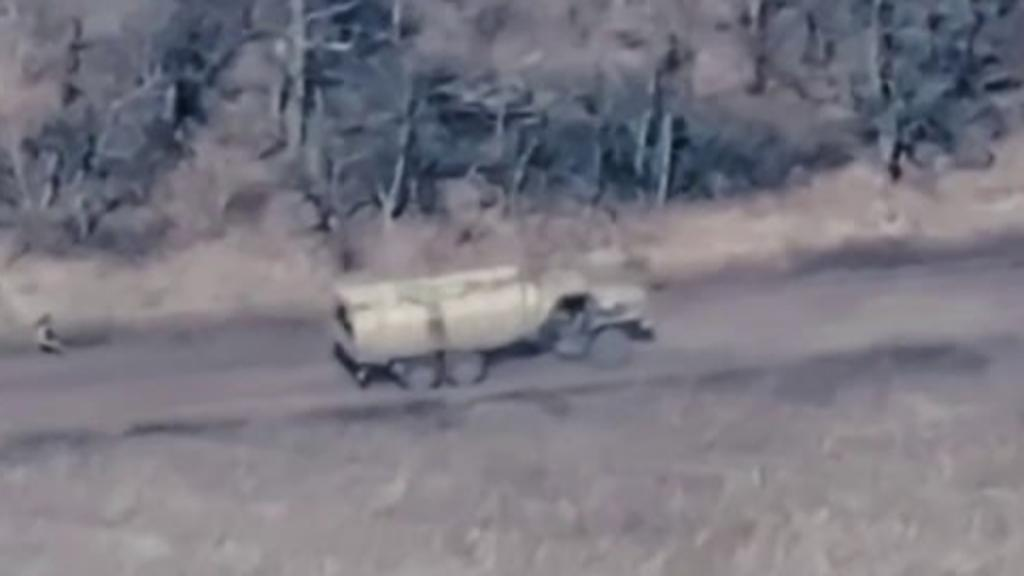TRUCK: (328, 255, 658, 392)
